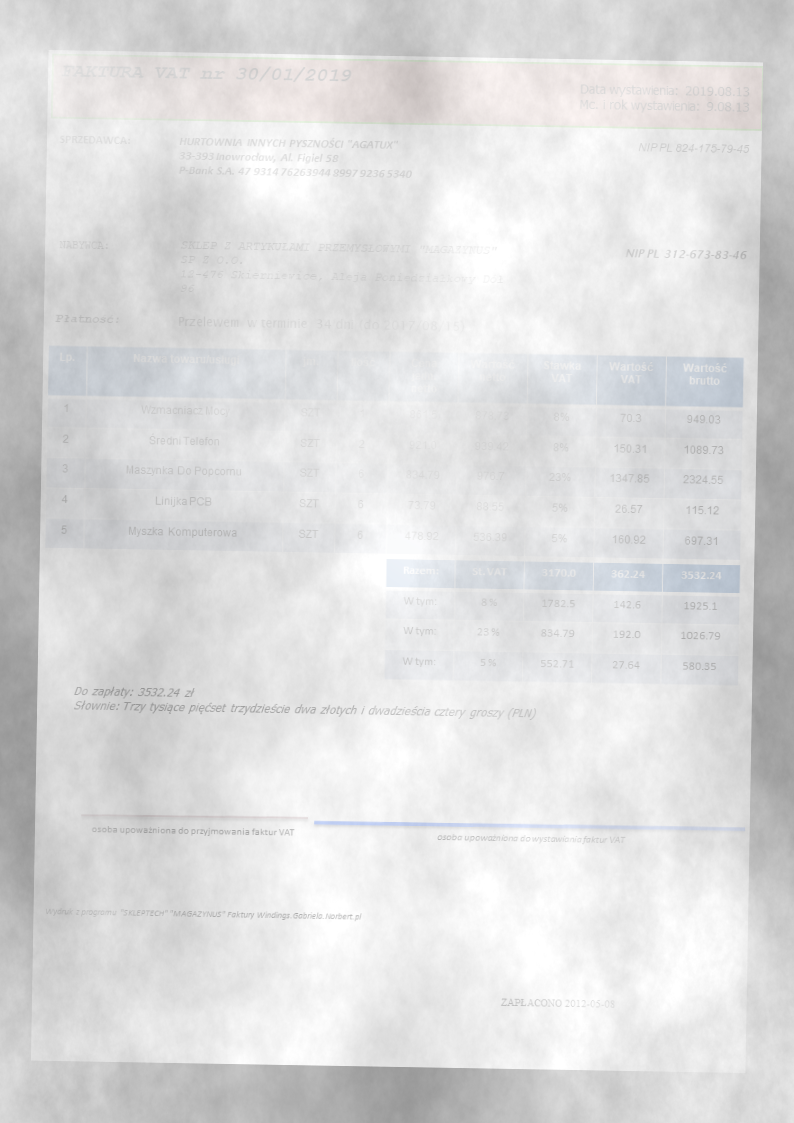Table: (43, 343, 745, 562), (383, 557, 742, 686), (71, 682, 538, 723)
TextBox: (176, 237, 507, 301), (176, 134, 414, 181), (59, 59, 353, 87), (42, 904, 364, 924), (175, 313, 466, 335), (576, 80, 752, 114), (88, 823, 296, 839), (434, 831, 627, 847), (622, 245, 749, 263), (635, 139, 751, 157), (499, 995, 616, 1010), (57, 132, 132, 148), (54, 310, 121, 327), (56, 237, 111, 251)
